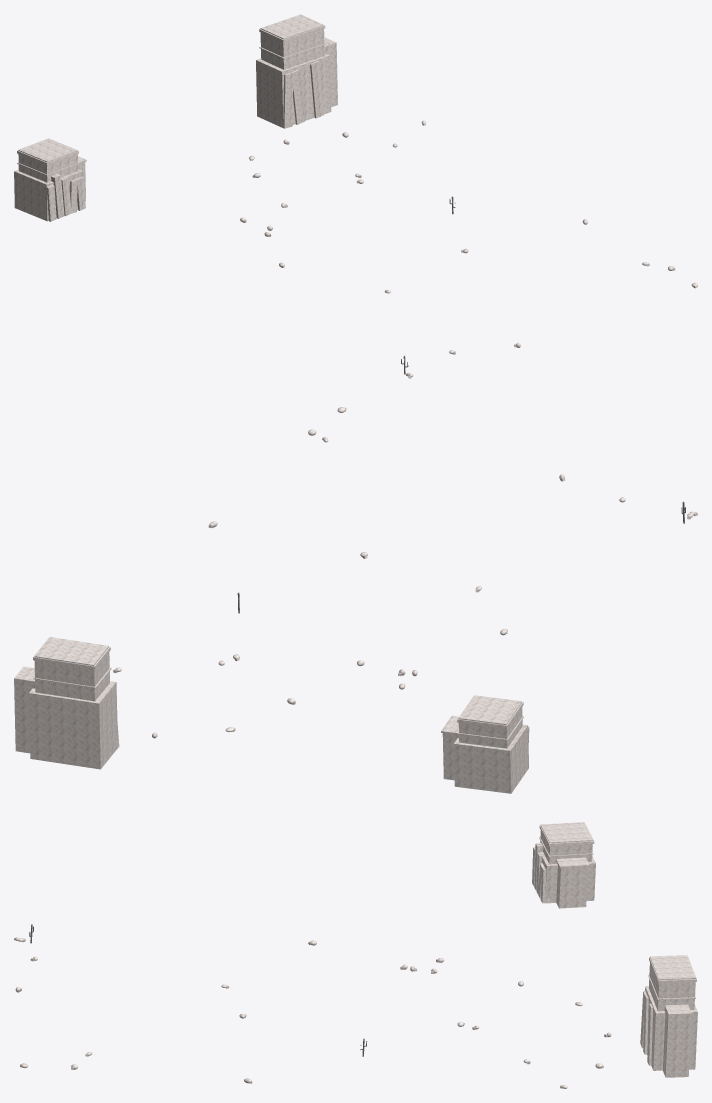
File: HighwireHorizon_13.obj
3 renders of one model, top to bottom at view 1: azimuth 30°, elevation 25°; view 2: azimuth 150°, elevation 25°; view 3: azimuth 270°, elevation 25°, orthographic. The views are drawn at different scales.
Visible parts, largest first — view 1: Box00131, Box00222, Box00132, Box00223, Box00421, Box00422, Box01420, Box01220; view 2: Box00131, Box00132, Box00222, Box00421, Box01420, Box00422, Box00223; view 3: Box01420, Box00131, Box01421, Box00222, Box00421, Box00422, Box00132, Box00223.
Boxes of the visible parts, <box> form: Box00131: <box>256,53,331,126</box>; Box00222: <box>260,29,324,69</box>; Box00132: <box>14,169,83,221</box>; Box00223: <box>18,154,78,182</box>; Box00421: <box>260,14,323,39</box>; Box00422: <box>18,138,77,162</box>; Box01420: <box>324,37,337,107</box>; Box01220: <box>310,61,323,118</box>; Box00131: <box>29,681,117,769</box>; Box00132: <box>453,724,528,793</box>; Box00222: <box>34,652,109,701</box>; Box00421: <box>34,637,108,665</box>; Box01420: <box>14,666,35,753</box>; Box00422: <box>458,695,521,724</box>; Box00223: <box>458,707,522,748</box>; Box01420: <box>663,1004,691,1077</box>; Box00131: <box>645,986,697,1070</box>; Box01421: <box>556,863,587,908</box>; Box00222: <box>649,963,695,1011</box>; Box00421: <box>650,955,696,980</box>; Box00422: <box>540,822,593,843</box>; Box00132: <box>540,852,595,903</box>; Box00223: <box>540,830,592,864</box>.
Bounding box in the file's own units: 343 × 71.18 × 474.
Materials: 6 (6 with a texture image).
